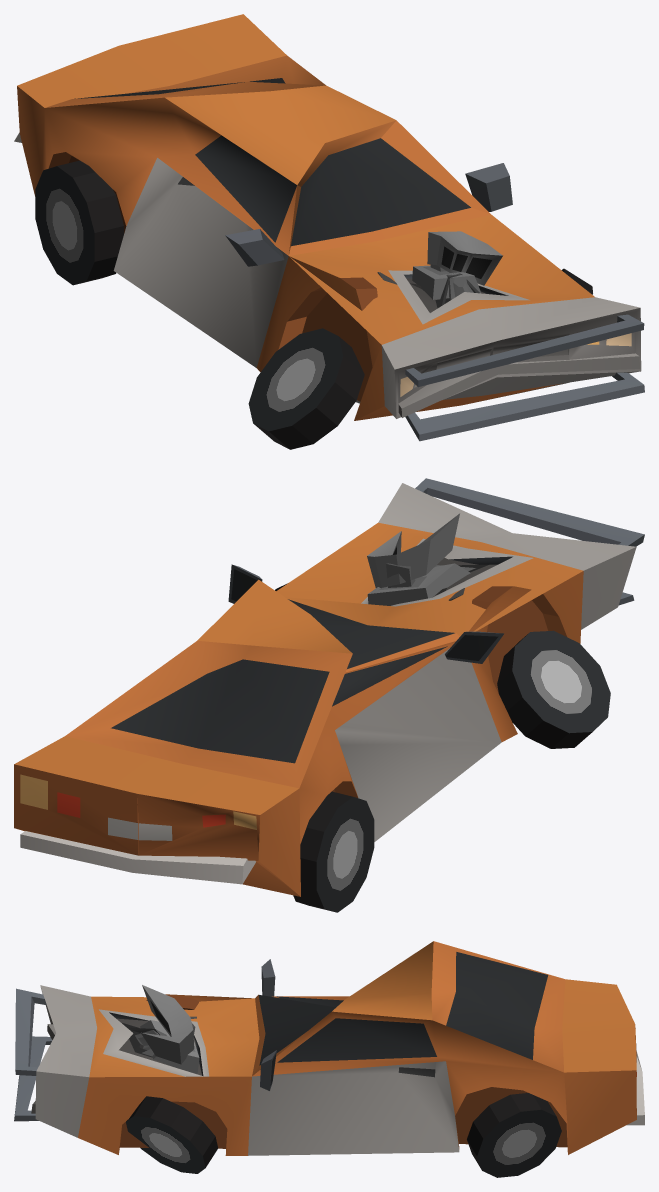
The model's file is WreckedCar2.fbx.
3 renders of one model, top to bottom at view 1: azimuth 30°, elevation 25°; view 2: azimuth 150°, elevation 25°; view 3: azimuth 270°, elevation 25°, orthographic. The views are drawn at different scales.
Parts seen in each view (by area): view 1: SR_Veh_DerbyCar_Orange.008, SR_Veh_DerbyCar_Wheel_FR, SR_Veh_DerbyCar_Wheel_RR, SR_Veh_DerbyCar_Orange.006, SR_Veh_DerbyCar_Orange.007, SR_Veh_DerbyCar_Orange.004, SR_Veh_DerbyCar_Orange.010, SR_Veh_DerbyCar_Orange.009, SR_Veh_DerbyCar_Orange; view 2: SR_Veh_DerbyCar_Orange.008, SR_Veh_DerbyCar_Wheel_FR, SR_Veh_DerbyCar_Wheel_RR, SR_Veh_DerbyCar_Orange.007, SR_Veh_DerbyCar_Orange.004, SR_Veh_DerbyCar_Orange, SR_Veh_DerbyCar_Orange.009, SR_Veh_DerbyCar_Orange.010, SR_Veh_DerbyCar_Orange.003; view 3: SR_Veh_DerbyCar_Orange.008, SR_Veh_DerbyCar_Wheel_RL, SR_Veh_DerbyCar_Wheel_FL, SR_Veh_DerbyCar_Orange.004, SR_Veh_DerbyCar_Orange.007, SR_Veh_DerbyCar_Orange.006, SR_Veh_DerbyCar_Orange.003, SR_Veh_DerbyCar_Orange, SR_Veh_DerbyCar_Orange.010, SR_Veh_DerbyCar_Orange.009.
Part boxes in pixels (<box>): SR_Veh_DerbyCar_Orange.008: <box>14,14,641,420</box>; SR_Veh_DerbyCar_Wheel_FR: <box>248,328,364,449</box>; SR_Veh_DerbyCar_Wheel_RR: <box>35,160,123,285</box>; SR_Veh_DerbyCar_Orange.006: <box>405,372,644,441</box>; SR_Veh_DerbyCar_Orange.007: <box>405,314,644,387</box>; SR_Veh_DerbyCar_Orange.004: <box>427,231,502,285</box>; SR_Veh_DerbyCar_Orange.010: <box>465,163,512,211</box>; SR_Veh_DerbyCar_Orange.009: <box>225,229,284,266</box>; SR_Veh_DerbyCar_Orange: <box>412,265,480,299</box>; SR_Veh_DerbyCar_Orange.008: <box>14,483,636,896</box>; SR_Veh_DerbyCar_Wheel_FR: <box>497,630,610,748</box>; SR_Veh_DerbyCar_Wheel_RR: <box>293,791,374,912</box>; SR_Veh_DerbyCar_Orange.007: <box>415,478,644,546</box>; SR_Veh_DerbyCar_Orange.004: <box>367,513,459,588</box>; SR_Veh_DerbyCar_Orange: <box>367,563,470,605</box>; SR_Veh_DerbyCar_Orange.009: <box>445,631,503,663</box>; SR_Veh_DerbyCar_Orange.010: <box>228,564,262,603</box>; SR_Veh_DerbyCar_Orange.003: <box>432,558,497,600</box>; SR_Veh_DerbyCar_Orange.008: <box>31,941,644,1155</box>; SR_Veh_DerbyCar_Wheel_RL: <box>467,1093,561,1177</box>; SR_Veh_DerbyCar_Wheel_FL: <box>126,1096,218,1173</box>; SR_Veh_DerbyCar_Orange.004: <box>141,985,194,1064</box>; SR_Veh_DerbyCar_Orange.007: <box>15,988,46,1075</box>; SR_Veh_DerbyCar_Orange.006: <box>14,1036,52,1121</box>; SR_Veh_DerbyCar_Orange.003: <box>116,1016,201,1075</box>; SR_Veh_DerbyCar_Orange: <box>140,1020,199,1073</box>; SR_Veh_DerbyCar_Orange.010: <box>260,1050,276,1090</box>; SR_Veh_DerbyCar_Orange.009: <box>261,959,275,996</box>.
Bounding box in the file's own units: 371 × 225 × 799.
Materials: 1 (1 with a texture image).
